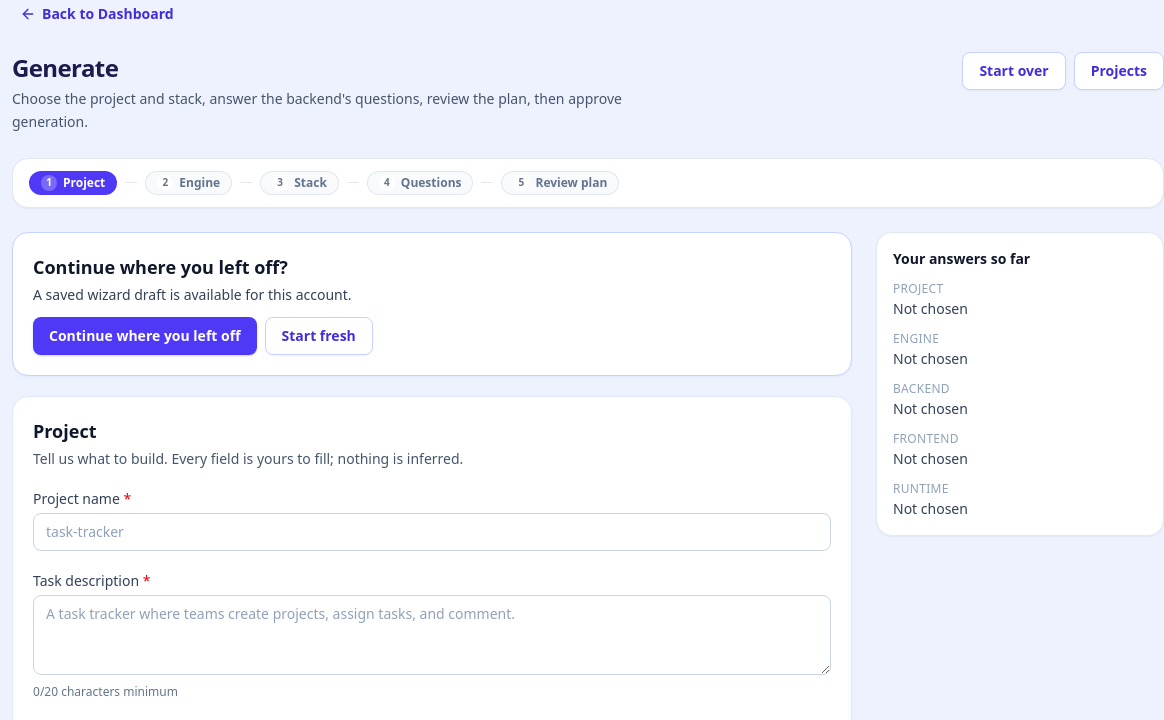
Scenario: GeneratePage — four-step explicit wizard › restores non-secret wizard progress without storing API keys or DB URLs
This screenshot has width=1164, height=720.
Expected: the heading "Continue where you left off?" is shown, top-left (33, 254), bottom-right (288, 278)
Click the button "Continue where you left off": (145,336) top-left (33, 316), bottom-right (256, 354)
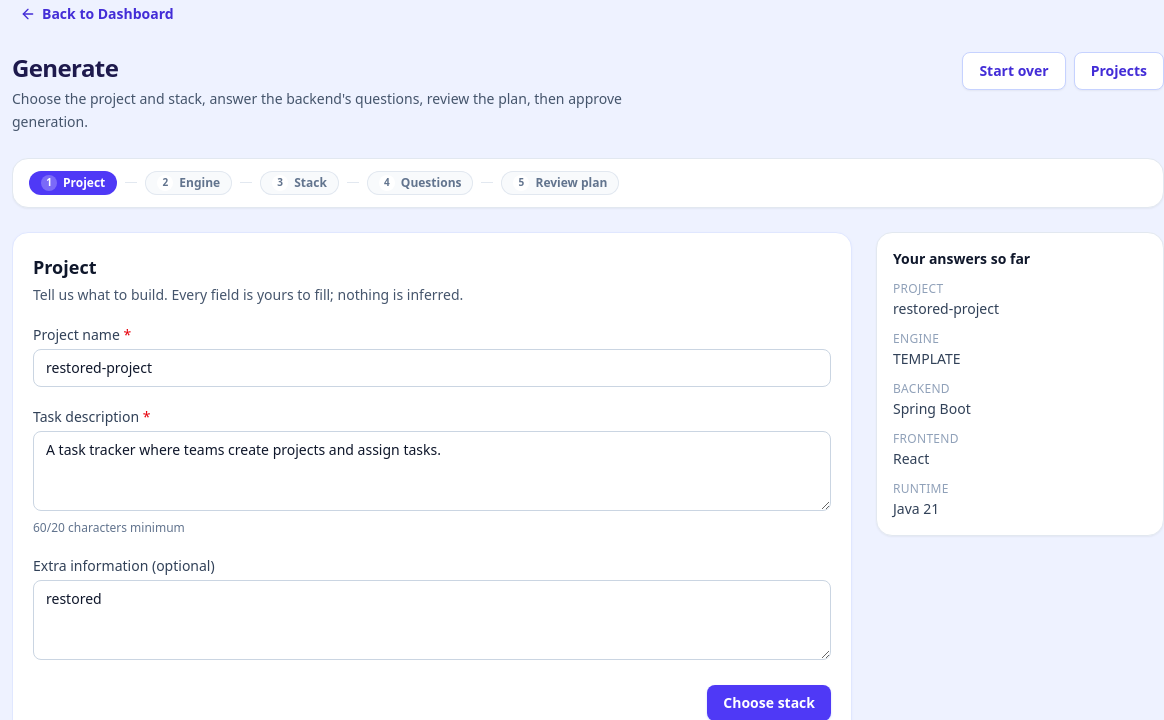
Expected: the field labelled "Project name *" holds "restored-project", top-left (33, 348), bottom-right (831, 386)
